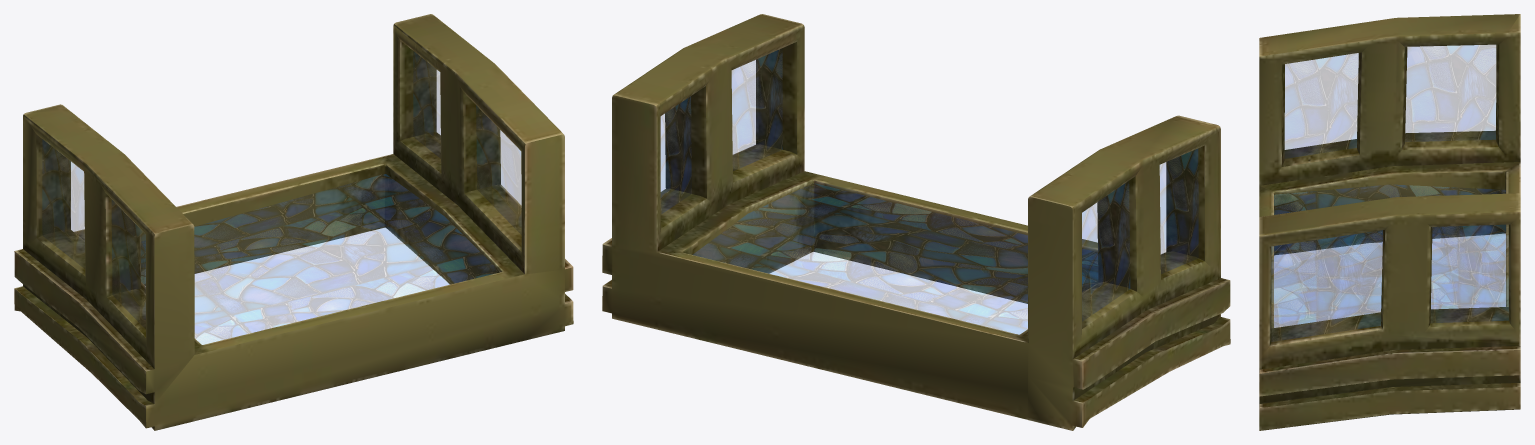
File: bridgeBrokenPiece_lowPoly.glb
The picture shows the model from 3 angles, left to right: view 1: azimuth 30°, elevation 25°; view 2: azimuth 150°, elevation 25°; view 3: azimuth 270°, elevation 25°; orthographic projection. The views are drawn at different scales.
Parts seen in each view (by area): view 1: Mesh_330.001; view 2: Mesh_330.001; view 3: Mesh_330.001.
Part boxes in pixels (x1,y1,x2,y2): Mesh_330.001: (14, 14, 573, 430); Mesh_330.001: (602, 14, 1230, 430); Mesh_330.001: (1259, 14, 1520, 430).
Size of the model in its own units: 1.03 by 0.5073 by 0.548.
3 materials, 3 textured.
